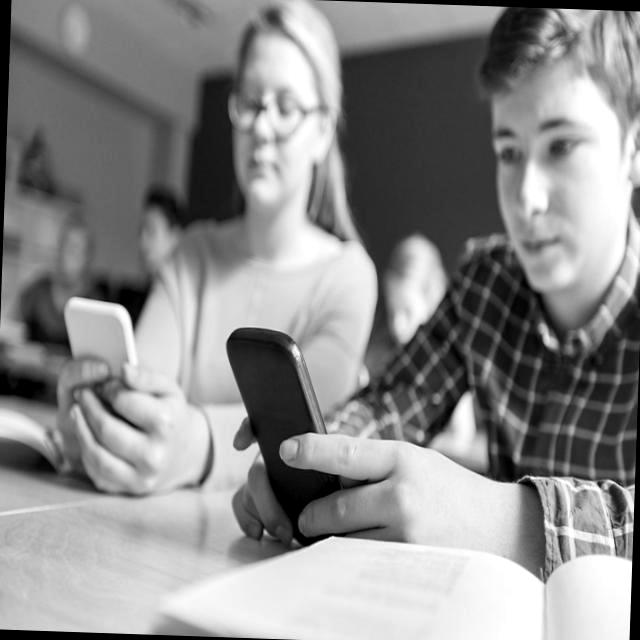phone: (218, 324, 347, 546), (60, 294, 140, 382)
